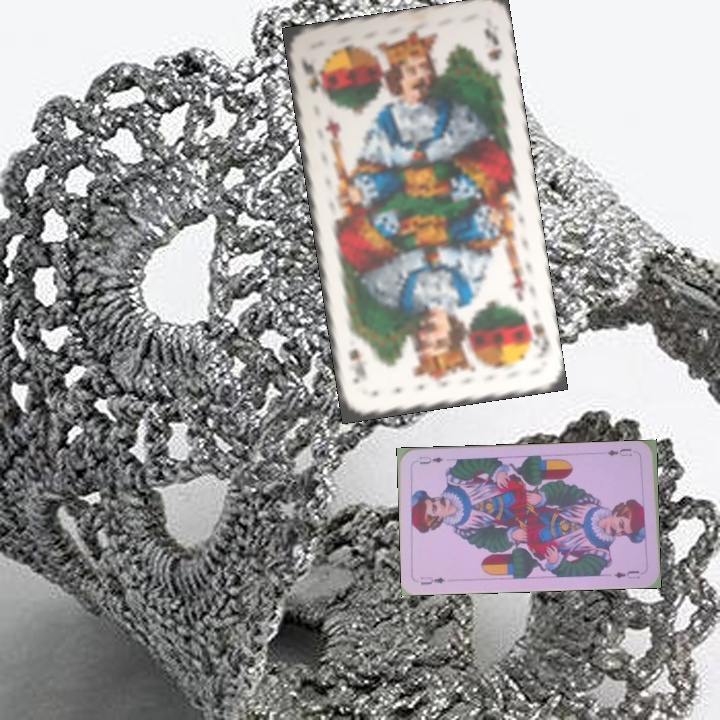EU: (603, 444, 634, 459), (417, 572, 447, 587)
SK: (520, 309, 552, 360), (297, 53, 325, 95)
